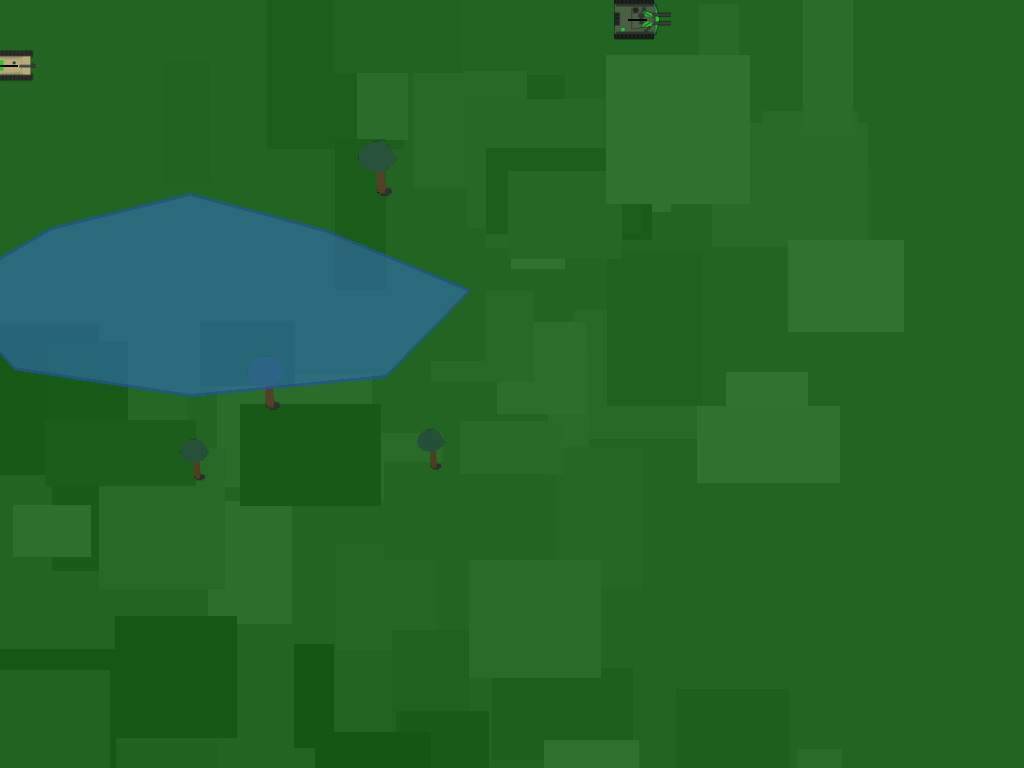Lake: (0, 194, 469, 395)
M1A2_usa: (0, 40, 49, 89)
Type99: (612, 0, 661, 49)
